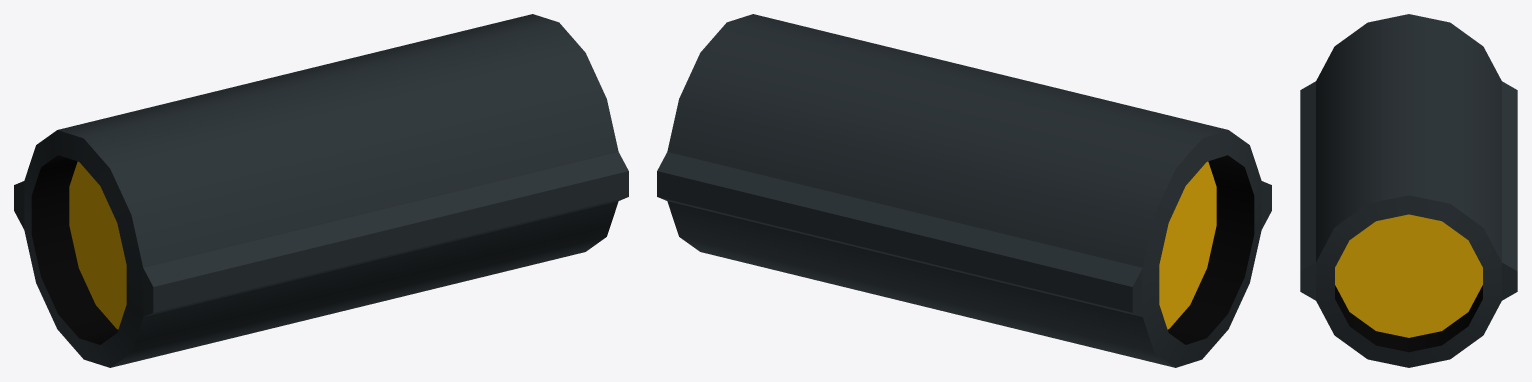
File: roller.fbx
3 renders of one model, left to right at view 1: azimuth 30°, elevation 25°; view 2: azimuth 150°, elevation 25°; view 3: azimuth 270°, elevation 25°, orthographic. The views are drawn at different scales.
Parts seen in each view (by area): view 1: roller; view 2: roller; view 3: roller.
Part boxes in pixels (bbox=[...]): roller: bbox=[14, 14, 628, 367]; roller: bbox=[657, 14, 1271, 367]; roller: bbox=[1300, 14, 1517, 367].
Size of the model in its own units: 275 by 120 by 137.
